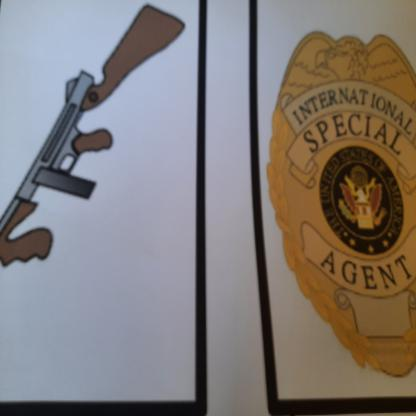Bootlegger: (8, 2, 190, 358)
G-man: (262, 24, 416, 388)
